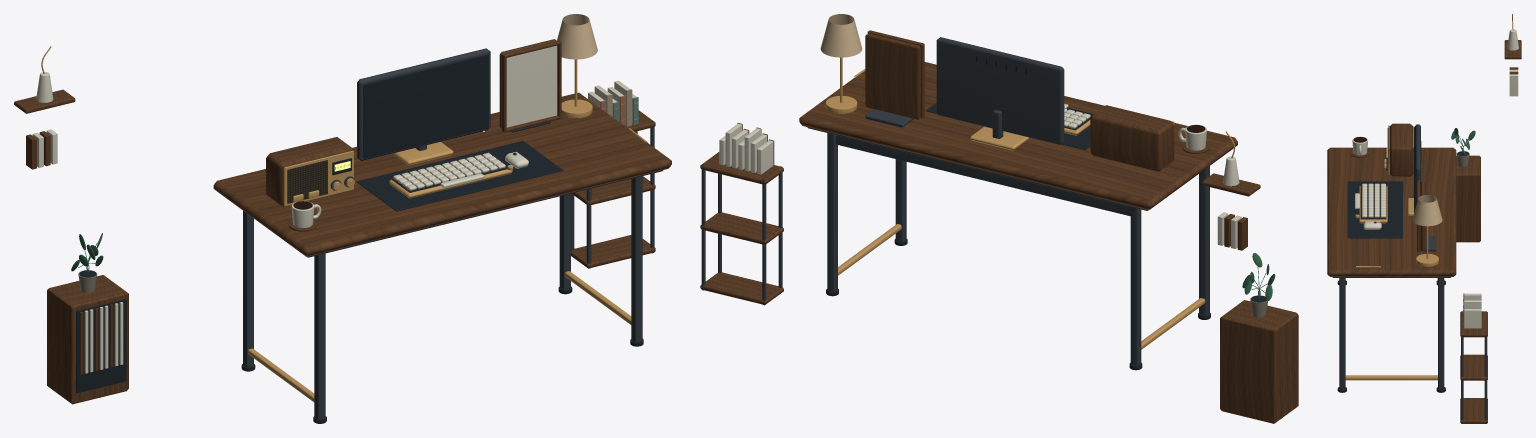
File: desk-studio-mobile.glb
The picture shows the model from 3 angles, left to right: view 1: azimuth 30°, elevation 25°; view 2: azimuth 150°, elevation 25°; view 3: azimuth 270°, elevation 25°; orthographic projection. The views are drawn at different scales.
Visible parts, largest first — view 1: Desk__finish, Scenery__finish, Computer__finish, PhotoDisplay__finish, Radio__finish, KeyboardKey__finish, Lamp__finish, Accessories__finish; view 2: Desk__finish, Scenery__finish, Computer__finish, PhotoDisplay__finish, Radio__finish, Lamp__finish, Accessories__finish, KeyboardKey__finish; view 3: Desk__finish, Scenery__finish, Radio__finish, KeyboardKey__finish, Lamp__finish, Computer__finish, PhotoDisplay__finish, Accessories__finish.
Part boxes in pixels (x1,y1,x2,y2): Desk__finish: (213, 92, 671, 423); Scenery__finish: (14, 46, 655, 404); Computer__finish: (357, 48, 490, 165); PhotoDisplay__finish: (499, 39, 561, 132); Radio__finish: (266, 137, 354, 206); KeyboardKey__finish: (389, 151, 528, 198); Lamp__finish: (557, 14, 597, 118); Accessories__finish: (288, 128, 648, 231); Desk__finish: (799, 62, 1237, 370); Scenery__finish: (700, 122, 1298, 423); Computer__finish: (936, 37, 1064, 150); PhotoDisplay__finish: (865, 30, 924, 127); Radio__finish: (1090, 105, 1174, 171); Lamp__finish: (820, 14, 862, 113); Accessories__finish: (854, 69, 1209, 153); KeyboardKey__finish: (1064, 103, 1090, 135); Desk__finish: (1327, 147, 1456, 392); Scenery__finish: (1451, 14, 1521, 423); Radio__finish: (1384, 123, 1413, 176); KeyboardKey__finish: (1355, 183, 1387, 229); Lamp__finish: (1412, 195, 1442, 266); Computer__finish: (1407, 124, 1421, 215); PhotoDisplay__finish: (1417, 180, 1436, 252); Accessories__finish: (1350, 136, 1380, 267).
Bounding box in the file's own units: 17.38 × 8.89 × 7.08.
Materials: 18 (2 with a texture image).
